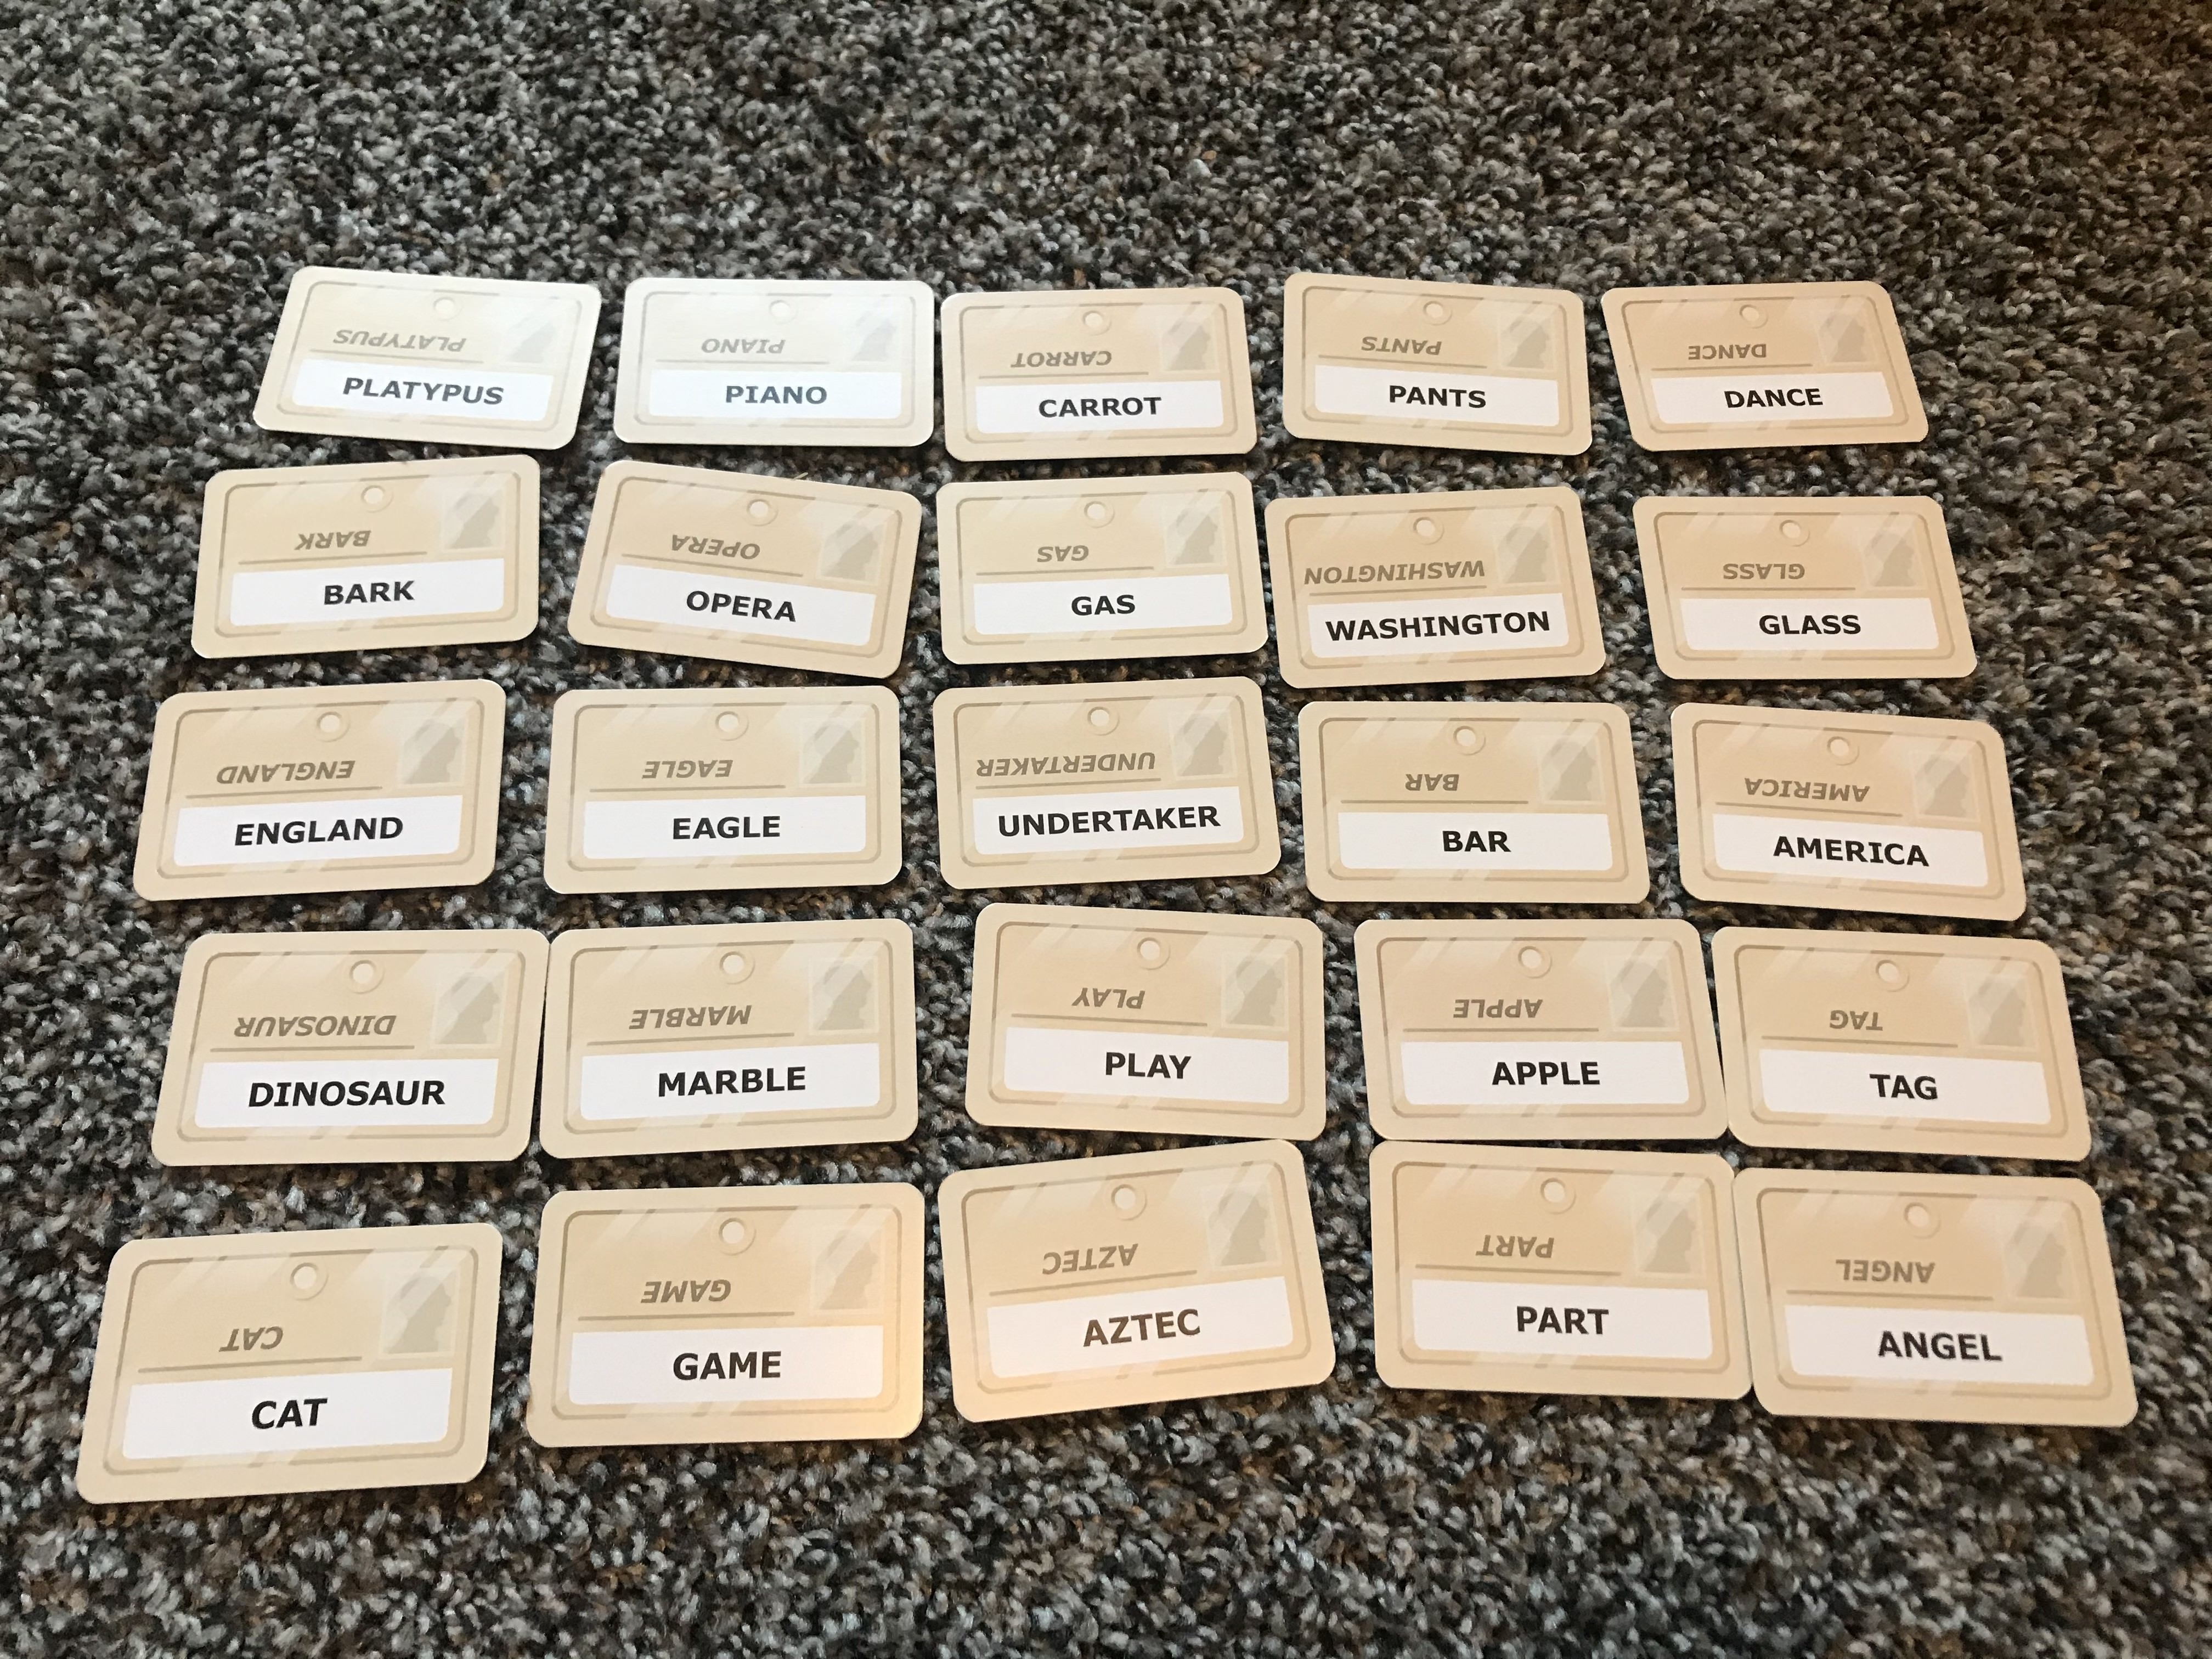A: (1533, 1298, 1566, 1352), (697, 1345, 730, 1394), (1770, 824, 1799, 878), (1076, 1314, 1108, 1358), (326, 807, 350, 856), (756, 378, 782, 423), (1130, 803, 1158, 845), (1876, 1321, 1898, 1371), (1460, 824, 1487, 864), (277, 1391, 301, 1436), (773, 591, 799, 633), (690, 810, 716, 852), (686, 1065, 712, 1107), (345, 570, 368, 617), (1888, 1068, 1912, 1110), (1905, 835, 1932, 873), (369, 1072, 392, 1115), (1353, 612, 1381, 647), (1489, 1056, 1514, 1094), (1144, 1049, 1170, 1084), (1801, 610, 1825, 643), (1092, 587, 1113, 626), (1054, 392, 1076, 425), (1404, 375, 1421, 416), (381, 373, 401, 410), (1743, 380, 1763, 415)
